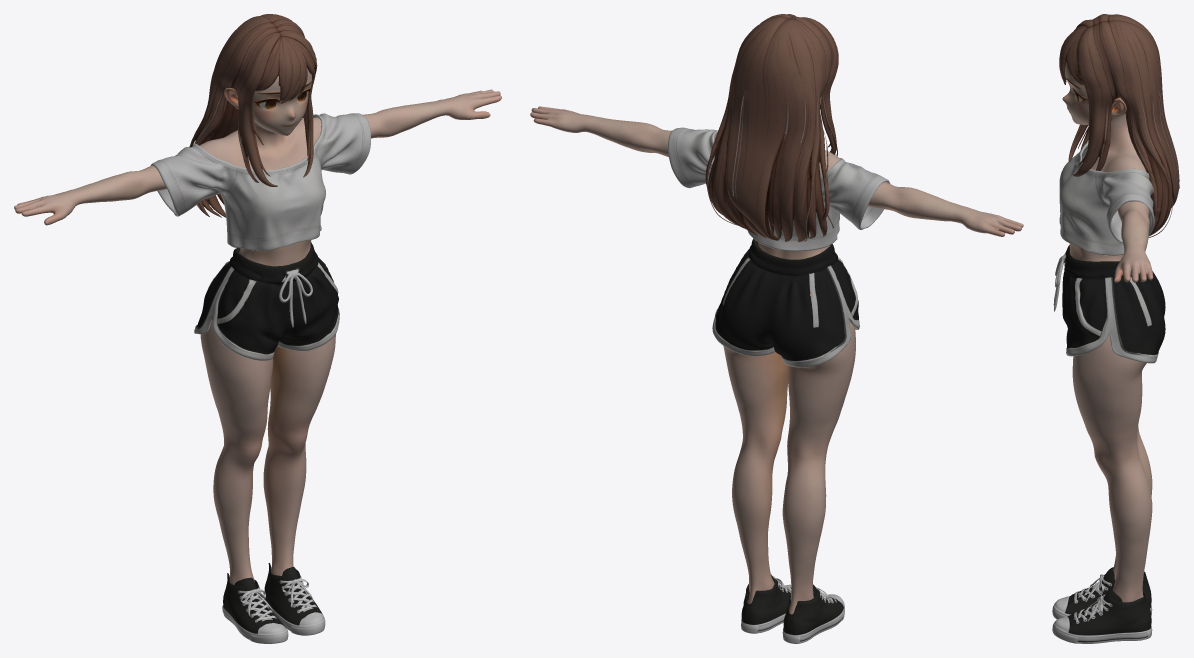
Rendered from casual.glb.
3 renders of one model, left to right at view 1: azimuth 30°, elevation 25°; view 2: azimuth 150°, elevation 25°; view 3: azimuth 270°, elevation 25°, orthographic.
Visible parts, largest first — view 1: Object_10, Object_4, Object_6, Object_8, Object_13, Object_11; view 2: Object_10, Object_8, Object_6, Object_4, Object_13; view 3: Object_10, Object_8, Object_6, Object_4, Object_13, Object_11.
Boxes of the visible parts, <box> form: Object_10: <box>14,89,501,584</box>; Object_4: <box>150,113,370,251</box>; Object_6: <box>194,242,339,360</box>; Object_8: <box>189,14,317,217</box>; Object_13: <box>222,563,325,643</box>; Object_11: <box>224,68,312,135</box>; Object_10: <box>530,106,1023,614</box>; Object_8: <box>705,14,838,242</box>; Object_6: <box>712,238,859,367</box>; Object_4: <box>668,127,890,251</box>; Object_13: <box>741,574,844,643</box>; Object_10: <box>1069,125,1153,602</box>; Object_8: <box>1059,14,1179,237</box>; Object_6: <box>1053,245,1165,363</box>; Object_4: <box>1059,142,1154,255</box>; Object_13: <box>1052,567,1152,643</box>; Object_11: <box>1062,62,1127,129</box>.
Bounding box in the file's own units: 1.47 × 1.74 × 0.33.
Materials: 6 (6 with a texture image).
